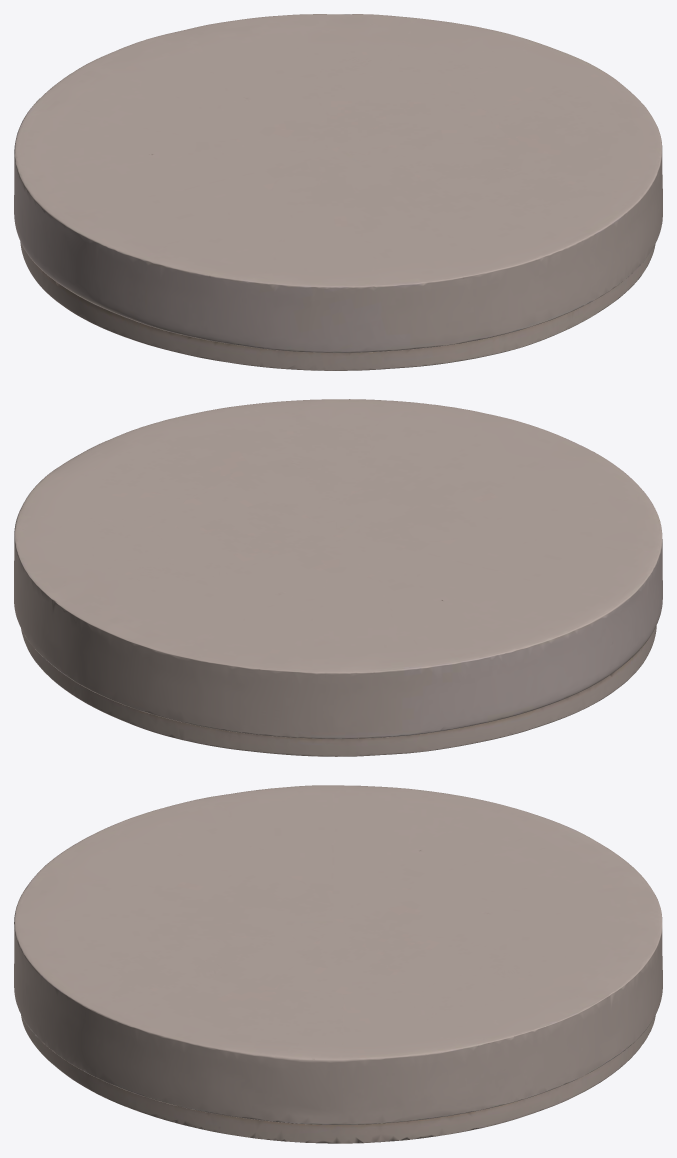
The model's file is plataformavet.glb.
The picture shows the model from 3 angles, top to bottom: view 1: azimuth 30°, elevation 25°; view 2: azimuth 150°, elevation 25°; view 3: azimuth 270°, elevation 25°; orthographic projection.
Visible parts, largest first — view 1: tripo_node_2a2a1037-a7f0-4202-8924-e2c46c634d67; view 2: tripo_node_2a2a1037-a7f0-4202-8924-e2c46c634d67; view 3: tripo_node_2a2a1037-a7f0-4202-8924-e2c46c634d67.
Boxes of the visible parts, x1,y1,x2,y2 form: tripo_node_2a2a1037-a7f0-4202-8924-e2c46c634d67: (14, 14, 662, 370); tripo_node_2a2a1037-a7f0-4202-8924-e2c46c634d67: (14, 399, 662, 756); tripo_node_2a2a1037-a7f0-4202-8924-e2c46c634d67: (14, 785, 662, 1143).
Bounding box in the file's own units: 0.9797 × 0.1467 × 0.9787.
Materials: 1 (1 with a texture image).
